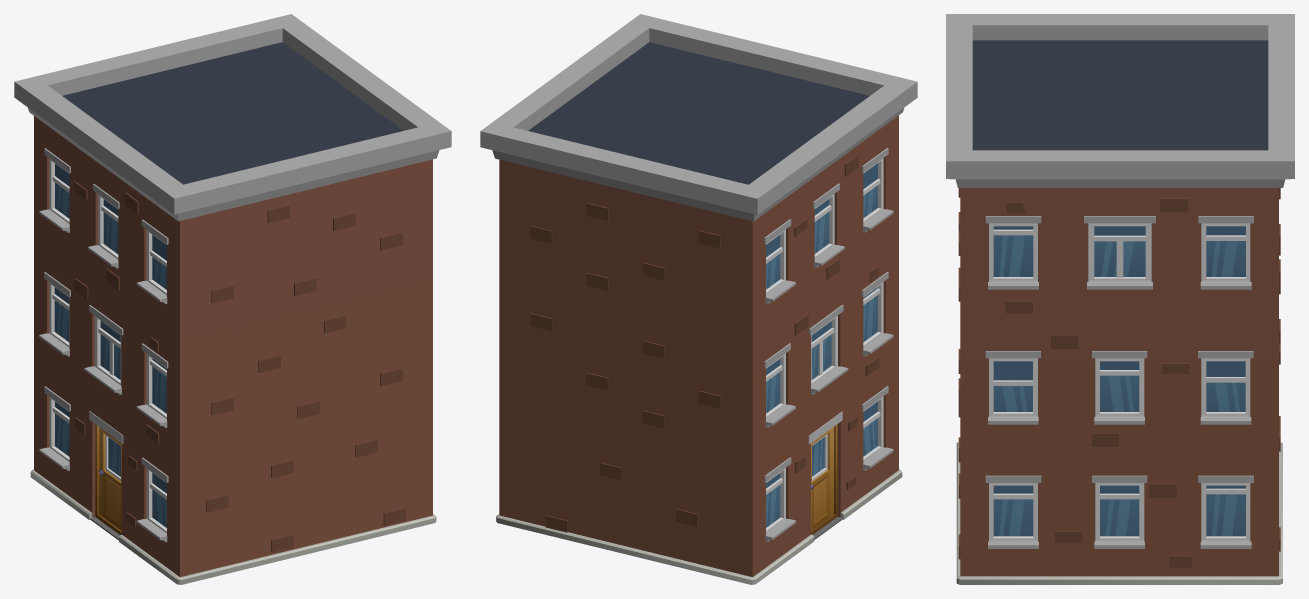
The model's file is Building_2_6_D.fbx.
3 renders of one model, left to right at view 1: azimuth 30°, elevation 25°; view 2: azimuth 150°, elevation 25°; view 3: azimuth 270°, elevation 25°, orthographic. The views are drawn at different scales.
Visible parts, largest first — view 1: Building_2_6_D; view 2: Building_2_6_D; view 3: Building_2_6_D.
Boxes of the visible parts, x1=… form: Building_2_6_D: x1=14, y1=14, x2=451, y2=584; Building_2_6_D: x1=480, y1=14, x2=917, y2=584; Building_2_6_D: x1=946, y1=14, x2=1294, y2=584.
Bounding box in the file's own units: 620 × 840 × 620.
